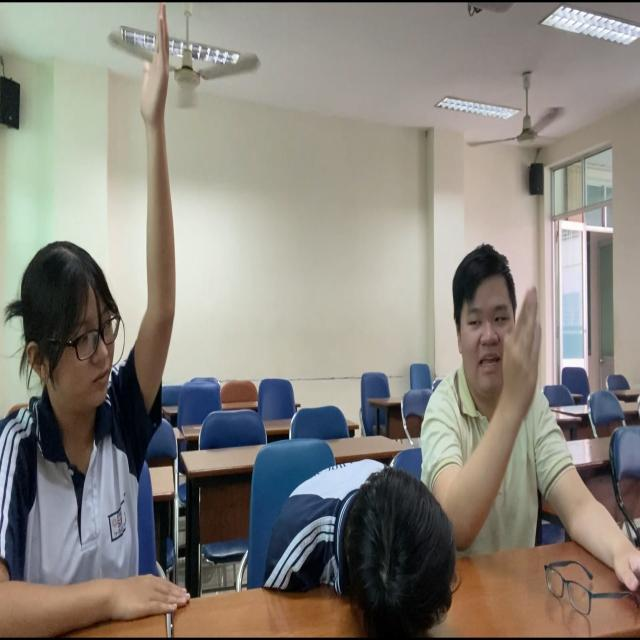raise_hand: (1, 1, 189, 636)
sleep: (257, 434, 470, 634)
